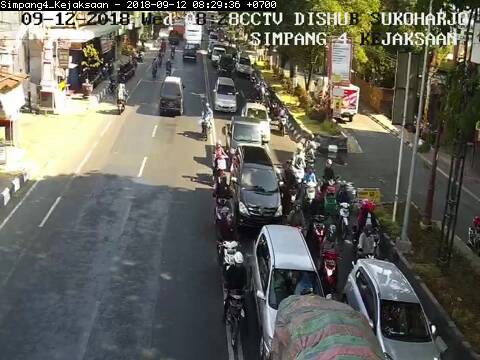motor: (222, 249, 250, 348), (216, 216, 240, 277), (319, 223, 339, 291), (352, 225, 382, 268), (212, 176, 235, 230), (331, 183, 352, 239), (280, 168, 299, 213), (303, 163, 318, 210), (210, 144, 228, 182), (198, 102, 213, 142), (319, 160, 332, 205)
